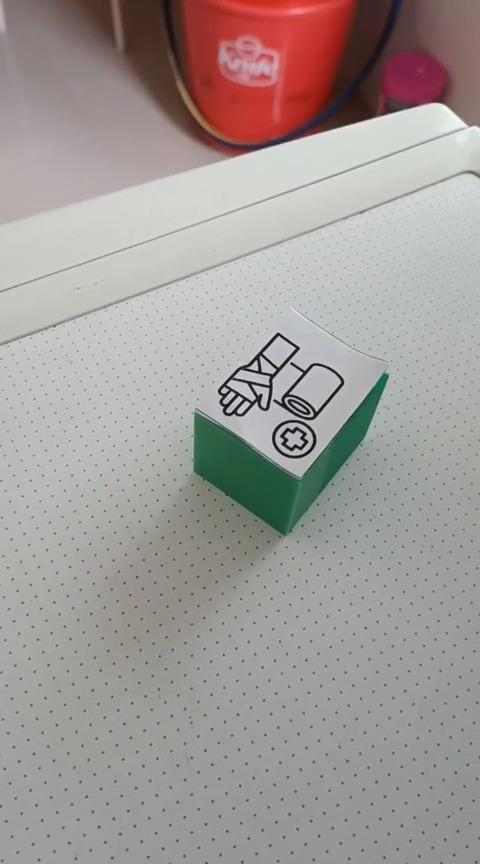Bandages: (193, 305, 393, 536)
